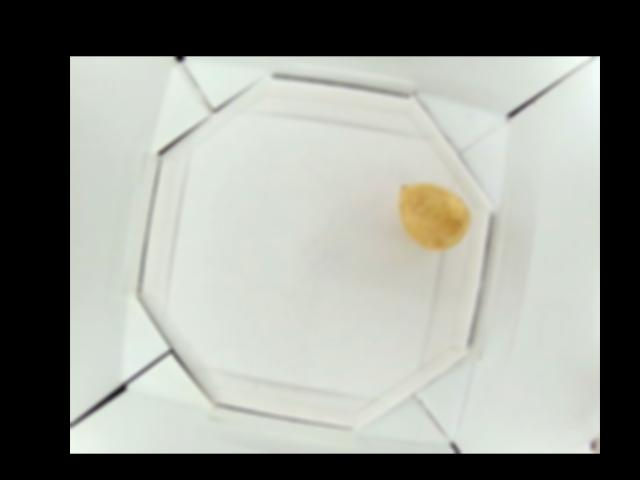Potato: (399, 182, 471, 251)
